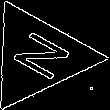N_SE: (2, 26, 74, 87)
